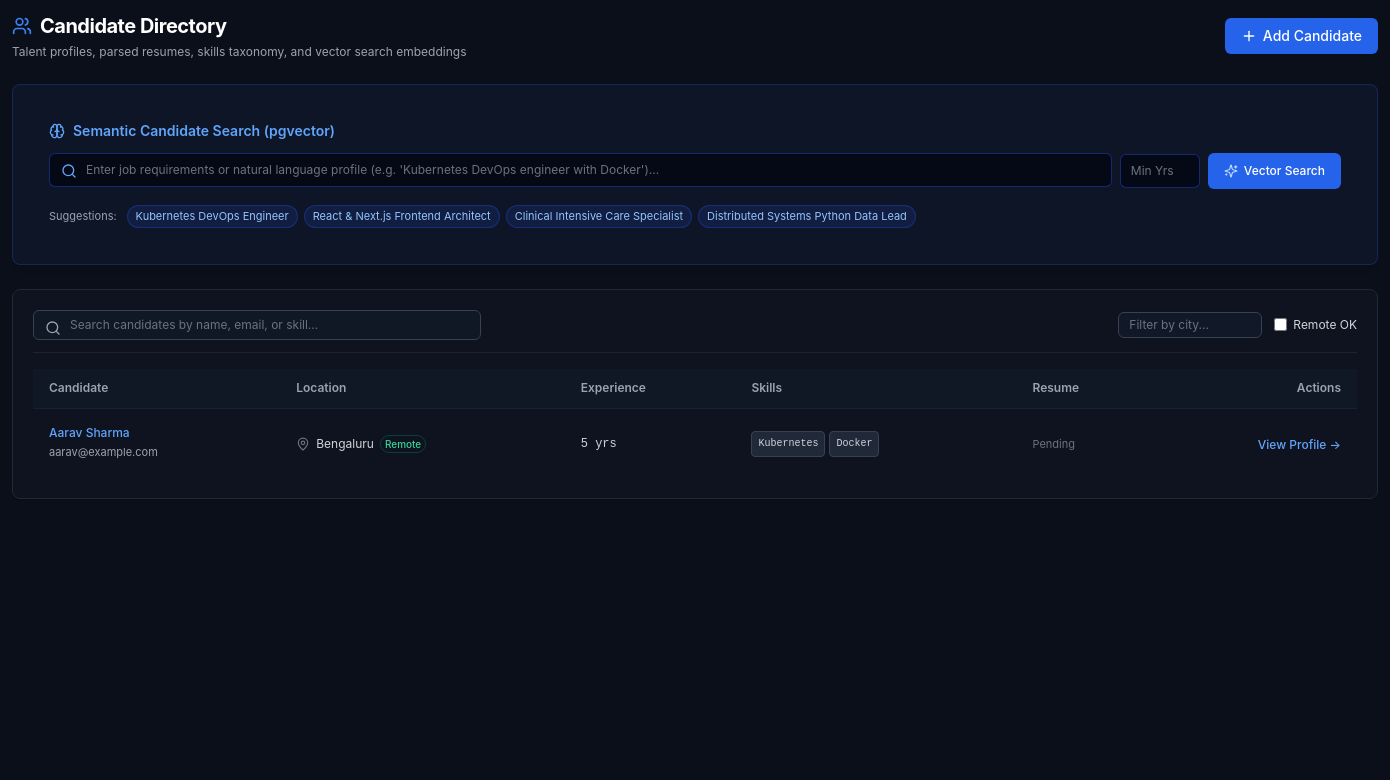
Test: Candidate Directory & Semantic Vector Search UI › executes semantic search and renders similarity match chips
The width and height of the screenshot is (1390, 780).
Expected: the link "Aarav Sharma" is shown, [49, 425, 130, 440]
Type "Kubernetes DevOps Engineer" into the field with placeholder "Enter job requirements or natural language profile". click: {"x": 580, "y": 170}
box: [49, 153, 1112, 187]
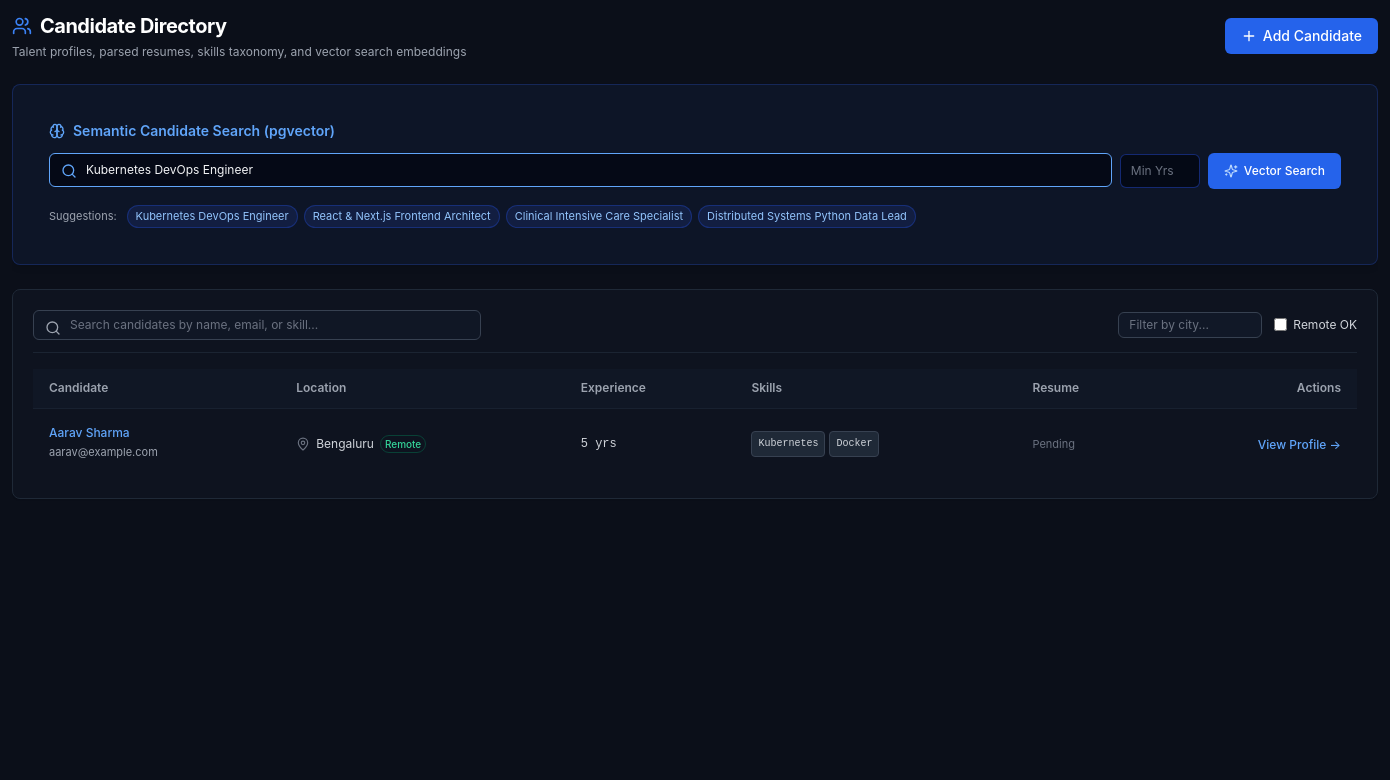
Click the button "Vector Search". click: {"x": 1274, "y": 171}
box: [1208, 153, 1341, 189]
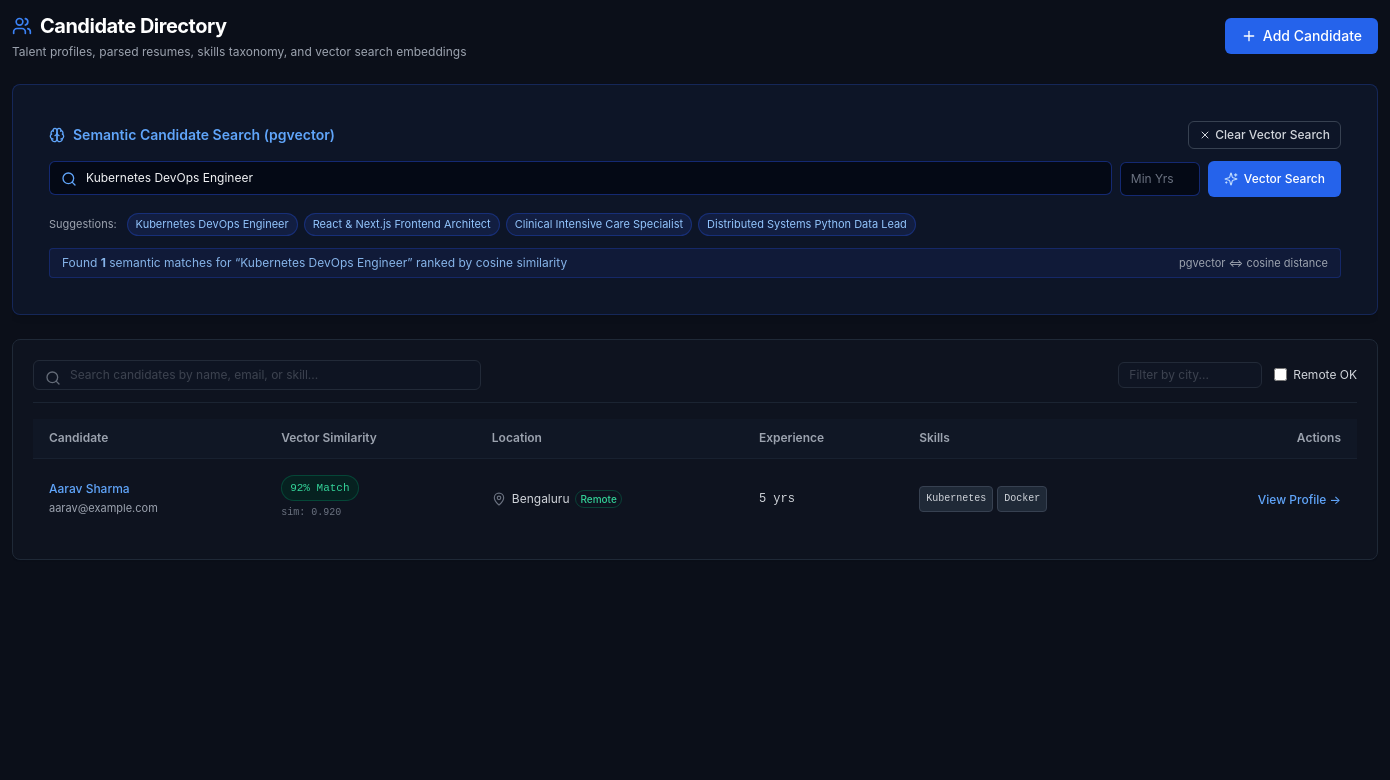
Now the text "92% Match" is shown, box [281, 475, 358, 501]
Now the text "sim: 0.920" is shown, box [281, 507, 341, 518]
Now the button "Clear Vector Search" is shown
Click the button "Clear Vector Search". click: {"x": 1265, "y": 135}
box: [1188, 121, 1341, 149]
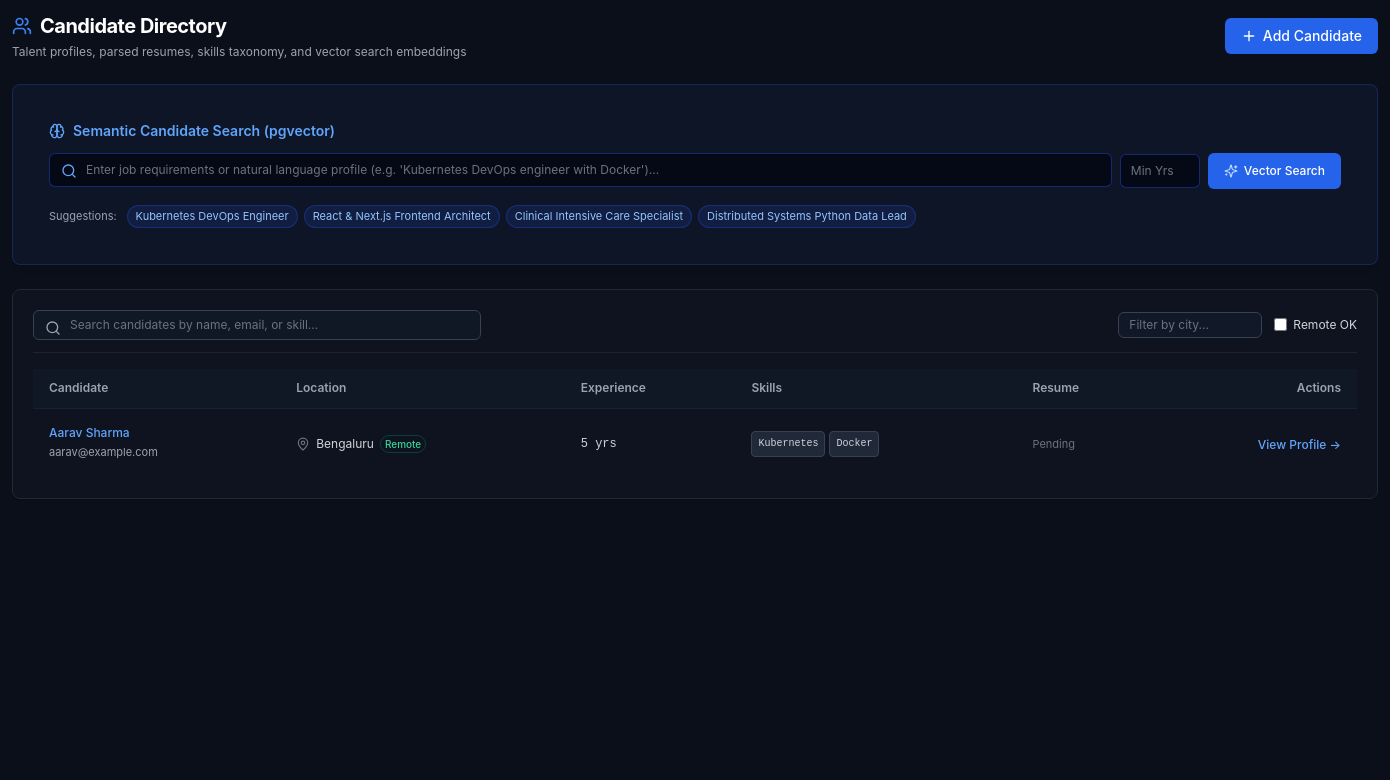
Now the text "92% Match" is gone
